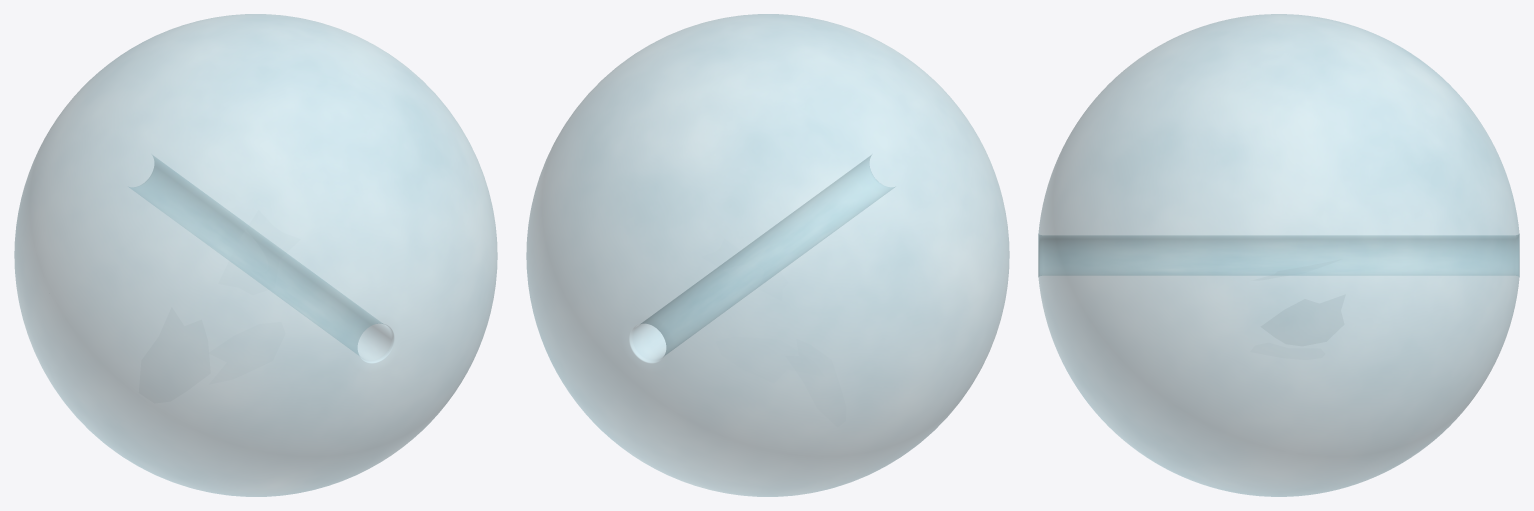
File: aquamarine-12mm.glb
The picture shows the model from 3 angles, left to right: view 1: azimuth 30°, elevation 25°; view 2: azimuth 150°, elevation 25°; view 3: azimuth 270°, elevation 25°; orthographic projection.
Parts seen in each view (by area): view 1: aquamarine.001; view 2: aquamarine.001; view 3: aquamarine.001.
Part boxes in pixels (x1=…): aquamarine.001: x1=14, y1=14, x2=497, y2=496; aquamarine.001: x1=526, y1=14, x2=1009, y2=496; aquamarine.001: x1=1038, y1=14, x2=1519, y2=496.
Bounding box in the file's own units: 0.012 × 0.012 × 0.012.
Materials: 2 (1 with a texture image).
